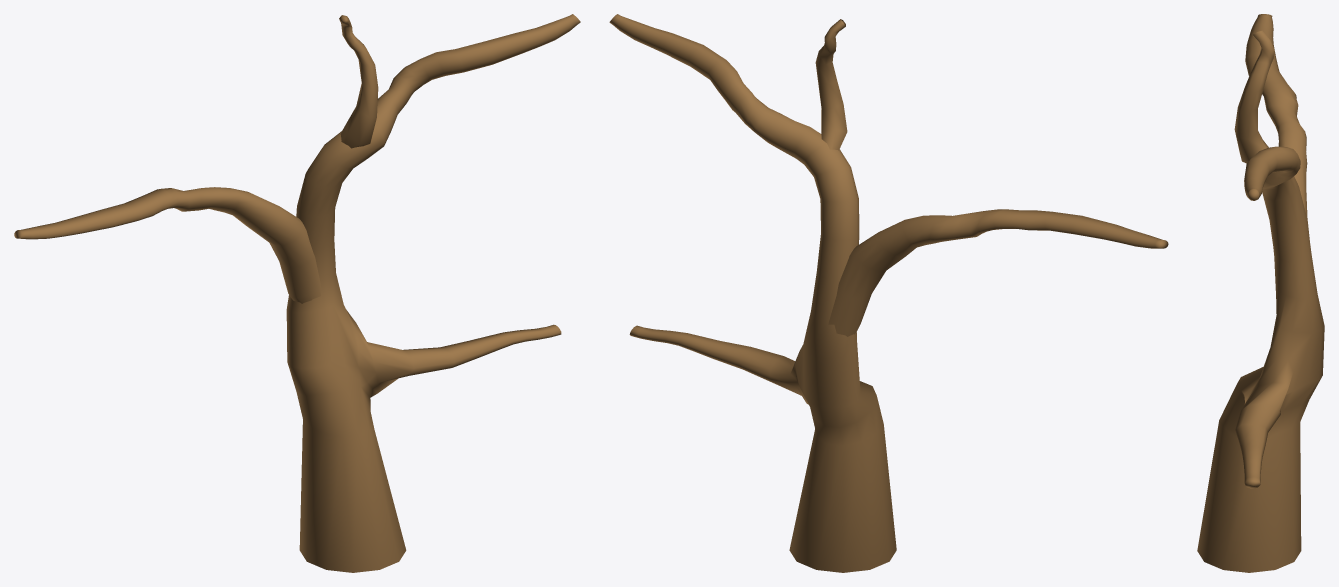
File: arvoregrande_lv3.fbx
3 views of the same model, side by side, from view 1: azimuth 30°, elevation 25°; view 2: azimuth 150°, elevation 25°; view 3: azimuth 270°, elevation 25° (orthographic). The views are drawn at different scales.
Visible parts, largest first — view 1: pCylinder8, pCylinder10, desnex1; view 2: pCylinder8, pCylinder10, desnex1; view 3: pCylinder8, pCylinder10, desnex1.
Boxes of the visible parts, x1=… form: pCylinder8: x1=286, y1=14, x2=580, y2=572; pCylinder10: x1=14, y1=187, x2=321, y2=303; desnex1: x1=339, y1=15, x2=378, y2=148; pCylinder8: x1=609, y1=14, x2=896, y2=572; pCylinder10: x1=828, y1=209, x2=1168, y2=336; desnex1: x1=815, y1=19, x2=847, y2=150; pCylinder8: x1=1197, y1=146, x2=1324, y2=572; pCylinder10: x1=1245, y1=14, x2=1309, y2=290; desnex1: x1=1234, y1=30, x2=1274, y2=163.
Bounding box in the file's own units: 11.5 × 10.47 × 2.33.
